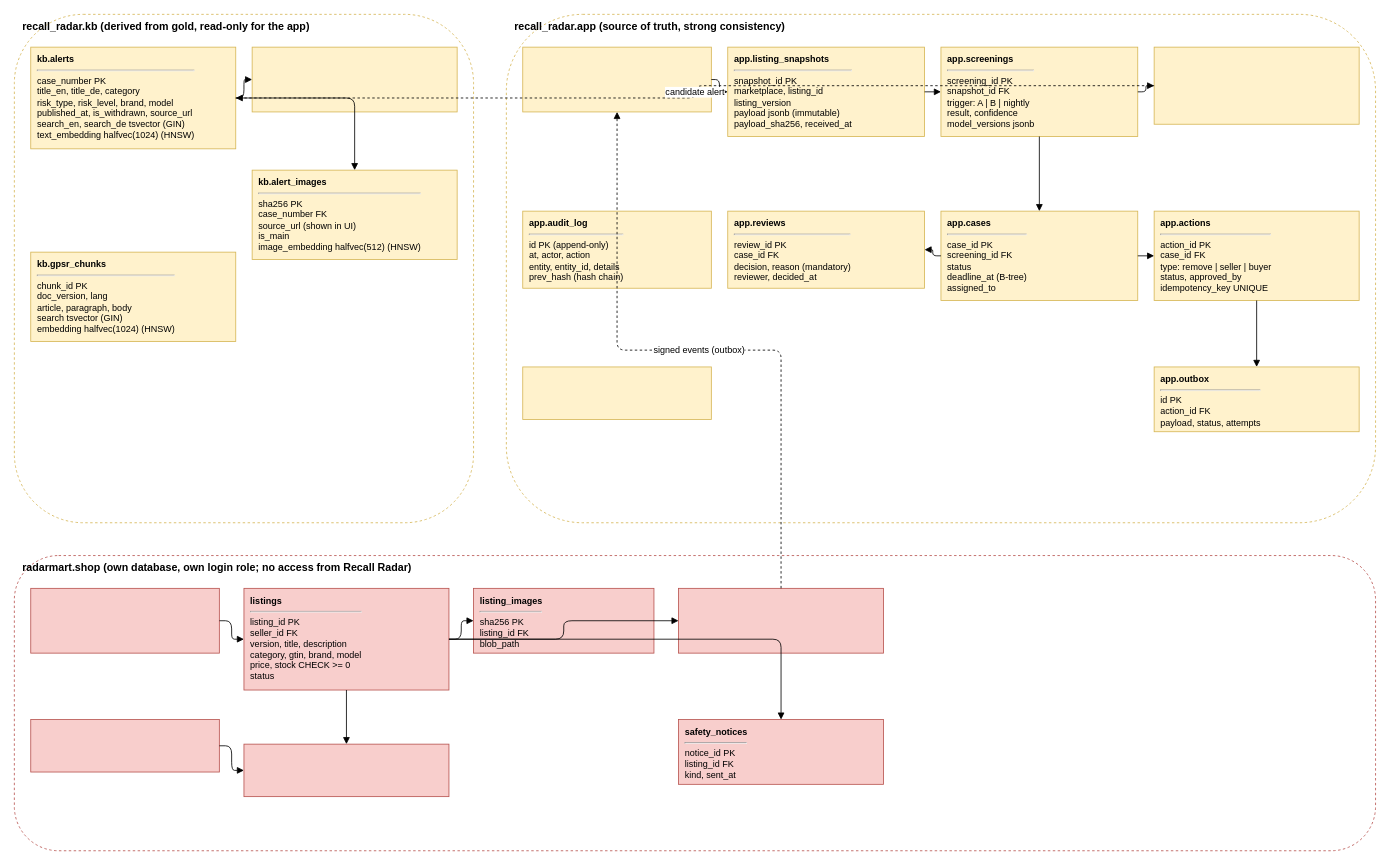
This 1390x865 diagram has some shape labels left out. Each missing label, with the centre of its shape:
"agent.* LangGraph checkpoints chat sessions + messages" belongs at [616,392].
"app.candidates screening_id FK case_number FK (kb) rank scores jsonb" belongs at [1256,85].
"app.inbound_events event_id PK (dedup) source, signature_ok received_at" belongs at [616,79].
"buyers buyer_id PK name, email (synthetic)" belongs at [124,745].
"event_outbox id PK, event_id UNIQUE listing_id FK payload, signature, status" belongs at [781,620].
"kb.alert_identifiers case_number FK kind: gtin | brand_model value_norm (B-tree)" belongs at [354,79].
"orders / order_items order_id PK, buyer_id FK listing_id FK, quantity" belongs at [346,770].
"sellers seller_id PK trader_name address, email (synthetic)" belongs at [124,620].
